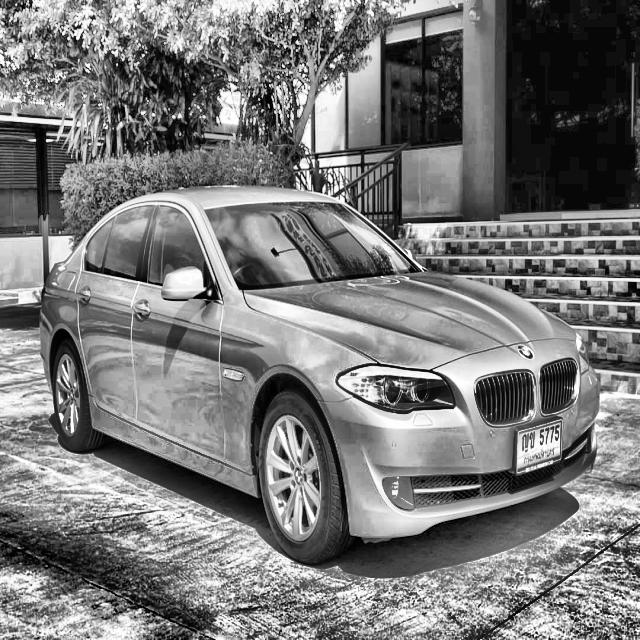license-plate: (511, 414, 565, 474)
